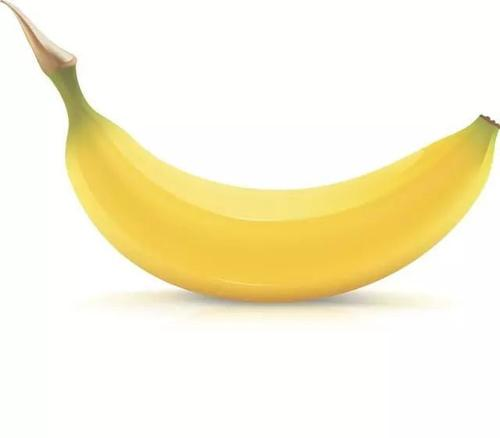fruit_banana: (34, 53, 499, 316)
